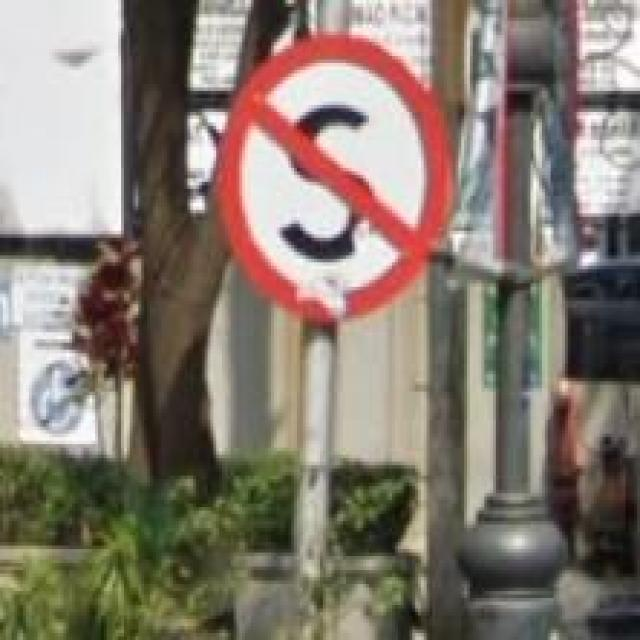traffic sign: (216, 35, 450, 318)
